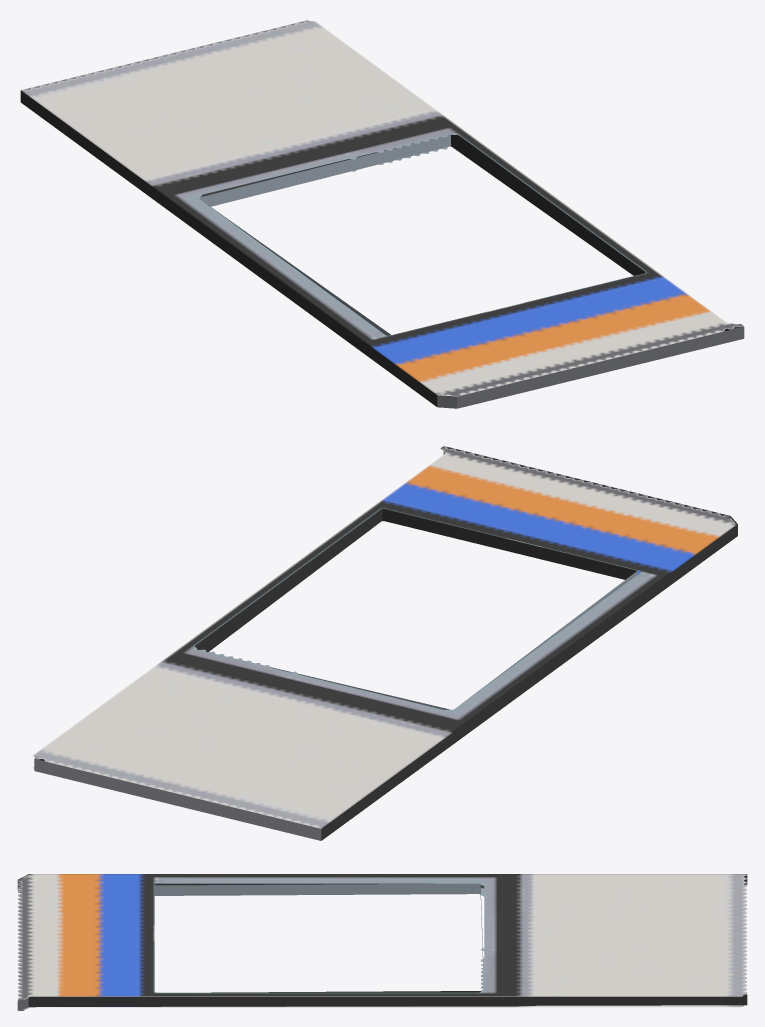
File: pz_native_location_shop_fossoil_01_1_frame.obj
3 views of the same model, one above another, from view 1: azimuth 30°, elevation 25°; view 2: azimuth 150°, elevation 25°; view 3: azimuth 270°, elevation 25° (orthographic). The views are drawn at different scales.
Parts seen in each view (by area): view 1: pz_native_location_shop_fossoil_01_1_frame; view 2: pz_native_location_shop_fossoil_01_1_frame; view 3: pz_native_location_shop_fossoil_01_1_frame.
Boxes of the visible parts, x1,y1,x2,y2 form: pz_native_location_shop_fossoil_01_1_frame: (20, 20, 744, 408); pz_native_location_shop_fossoil_01_1_frame: (33, 446, 737, 840); pz_native_location_shop_fossoil_01_1_frame: (17, 874, 747, 1010).
Size of the model in its own units: 1.06 by 0.04 by 2.54.
Materials: 1 (1 with a texture image).
